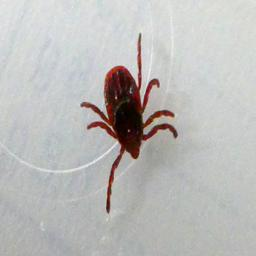Rhipicephalus sanguineus: (80, 31, 177, 214)
